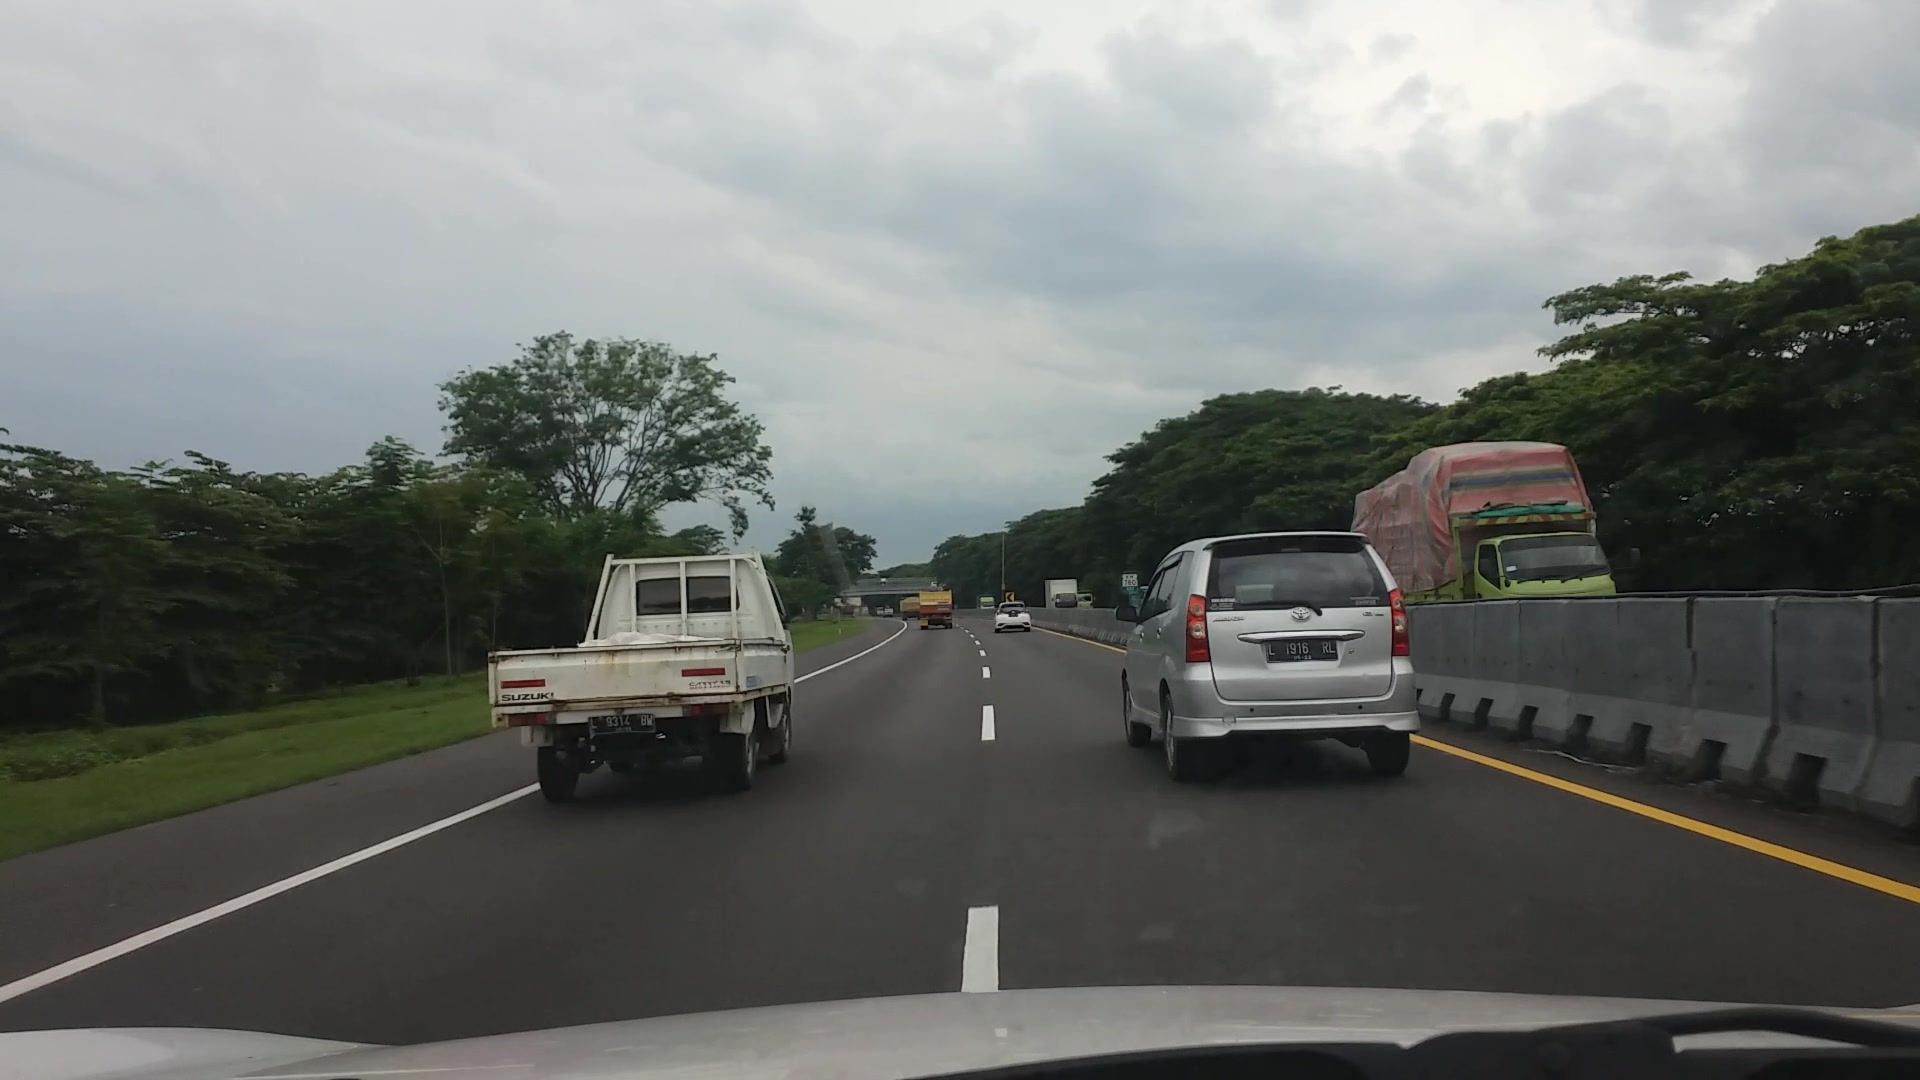plate_positive: (1266, 638, 1338, 662), (589, 713, 655, 737)
